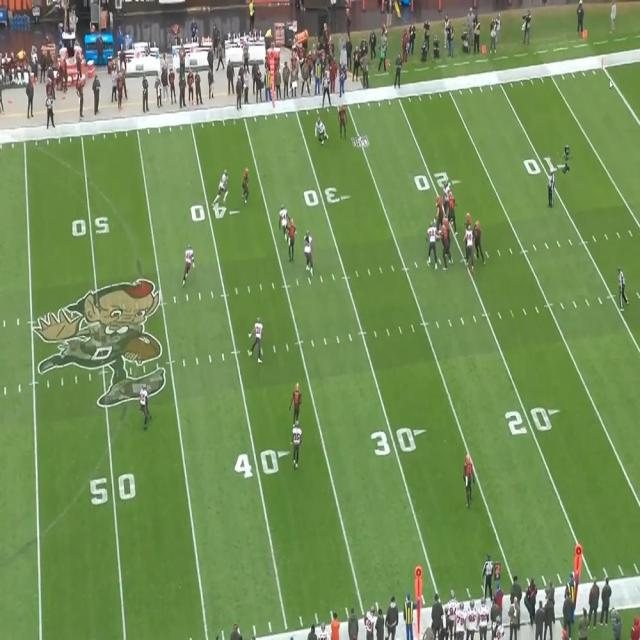db: (292, 426, 306, 470), (254, 317, 266, 363), (139, 386, 150, 428), (219, 168, 230, 200), (316, 117, 328, 142)
lb: (304, 232, 314, 274), (185, 244, 193, 287), (279, 205, 289, 237)
skill: (286, 218, 297, 258), (292, 384, 302, 424), (336, 106, 348, 139), (244, 166, 252, 202)
